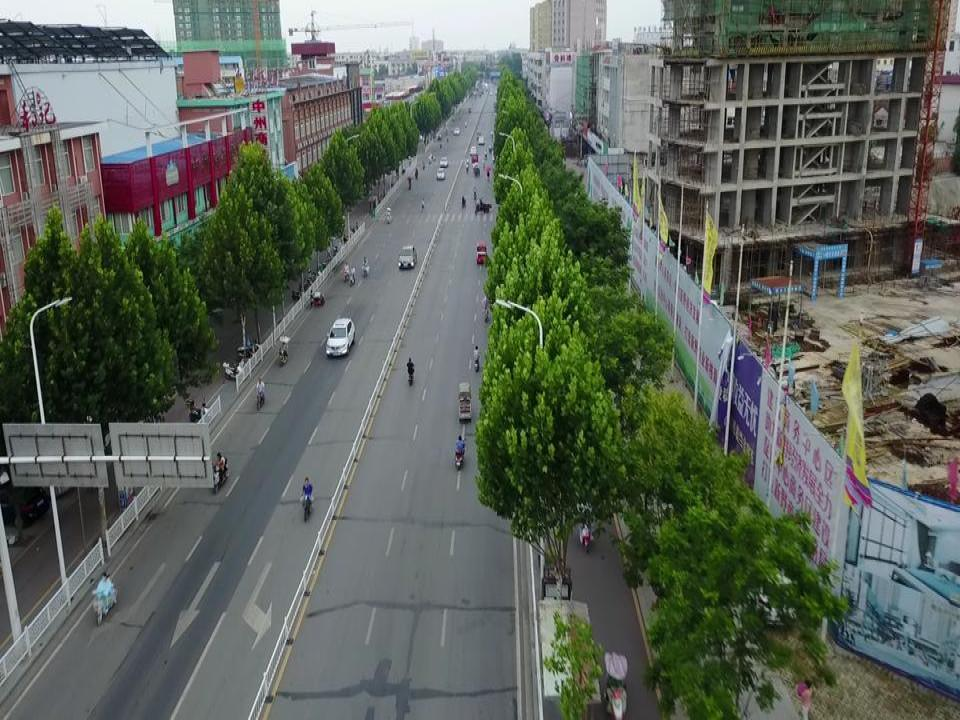car: (325, 317, 356, 356), (397, 247, 416, 269), (436, 167, 445, 180), (439, 157, 448, 167), (469, 145, 477, 156), (477, 136, 484, 143), (453, 126, 459, 134)
